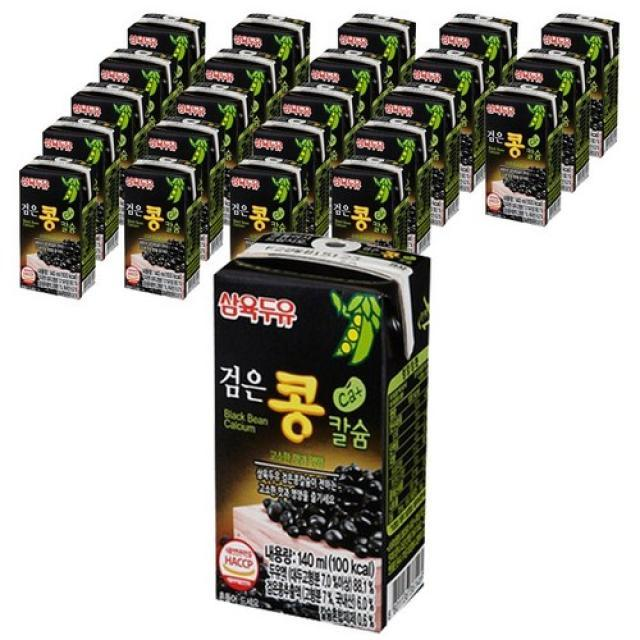Tetra: (200, 225, 443, 640), (16, 144, 103, 322), (113, 151, 205, 317), (316, 153, 434, 280), (474, 78, 566, 240), (220, 156, 320, 269)
